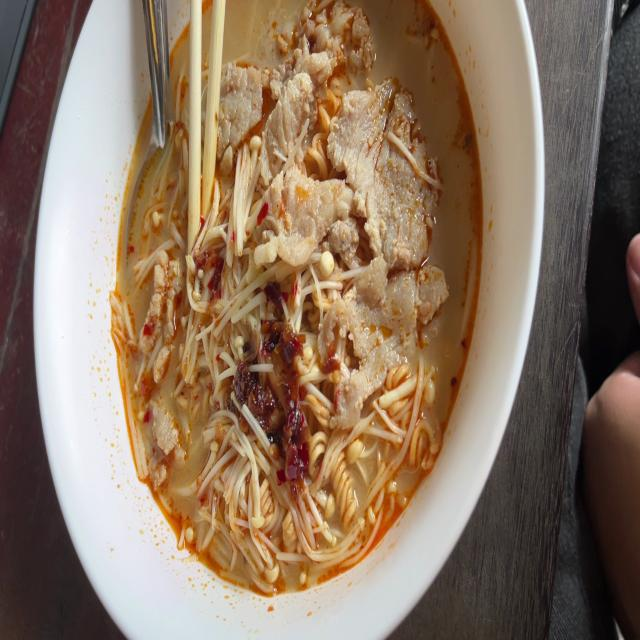noodle: (106, 0, 497, 592)
